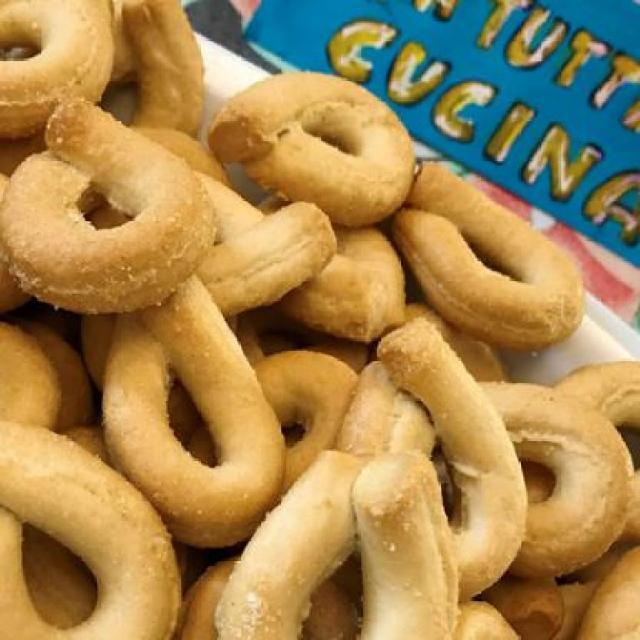Taralli: (6, 1, 628, 637)
